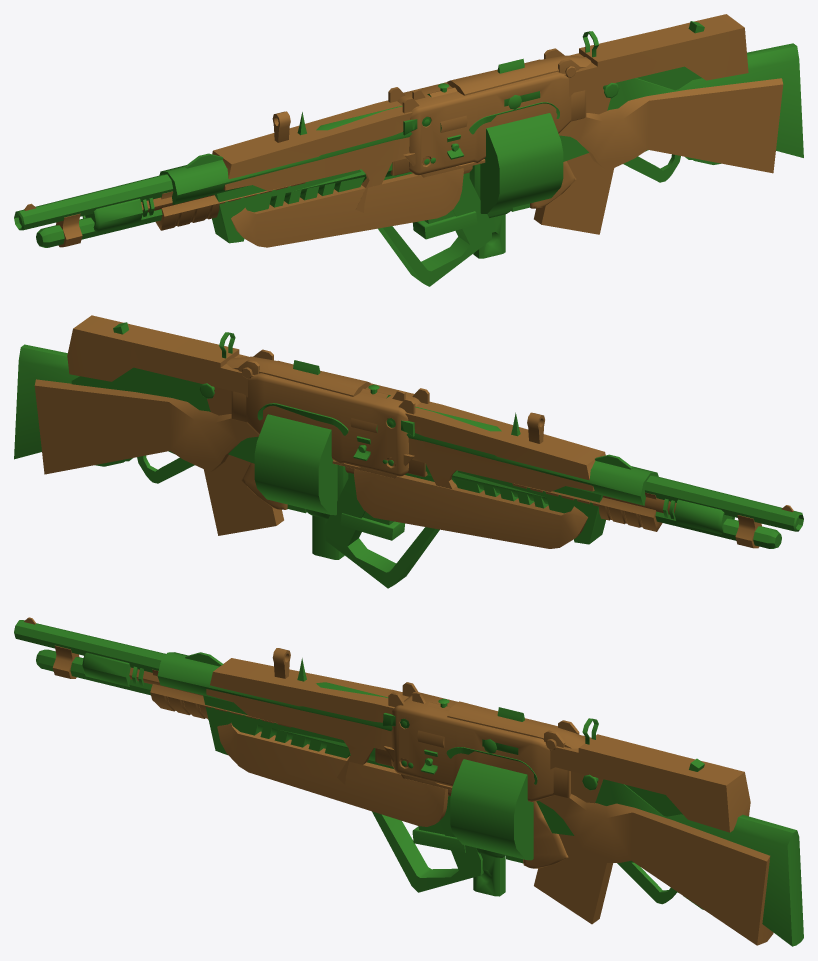
The model's file is NewGuns.fbx.
The picture shows the model from 3 angles, top to bottom: view 1: azimuth 30°, elevation 25°; view 2: azimuth 150°, elevation 25°; view 3: azimuth 330°, elevation 25°; orthographic projection.
Visible parts, largest first — view 1: Assult Rifle 2, Assult Rifle 1, Body.002, Smg 1, Smg2; view 2: Assult Rifle 2, Assult Rifle 1, Body.002, Smg 1, Smg2; view 3: Assult Rifle 2, Assult Rifle 1, Body.002, Smg 1, Smg2.
Boxes of the visible parts, box(x1,y1,x2,y2) form: Assult Rifle 2: box(82, 14, 748, 286); Assult Rifle 1: box(159, 43, 803, 247); Body.002: box(14, 78, 783, 247); Smg 1: box(272, 21, 704, 239); Smg2: box(388, 48, 586, 258); Assult Rifle 2: box(67, 315, 734, 588); Assult Rifle 1: box(14, 344, 658, 548); Body.002: box(34, 379, 803, 548); Smg 1: box(113, 322, 544, 540); Smg2: box(231, 349, 429, 559); Assult Rifle 2: box(82, 652, 750, 924); Assult Rifle 1: box(157, 652, 803, 946); Body.002: box(14, 617, 773, 945); Smg 1: box(272, 648, 704, 868); Smg2: box(375, 682, 579, 896).
Bounding box in the file's own units: 1.62 × 0.4173 × 0.1764.
